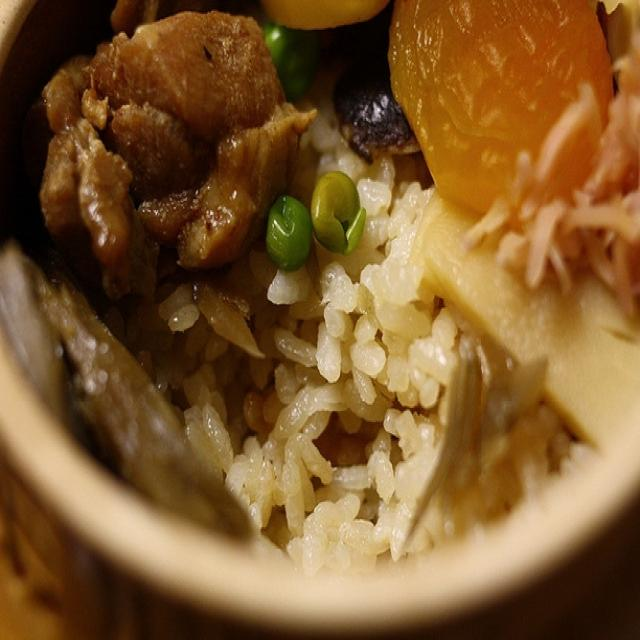猪肉菜式: (0, 58, 640, 640)
